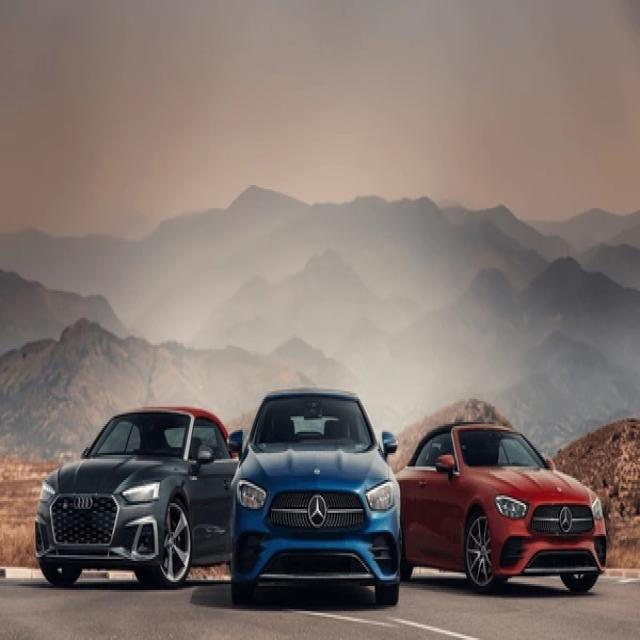audi: (73, 491, 93, 511)
mercedes: (308, 495, 326, 527), (558, 508, 572, 532)
